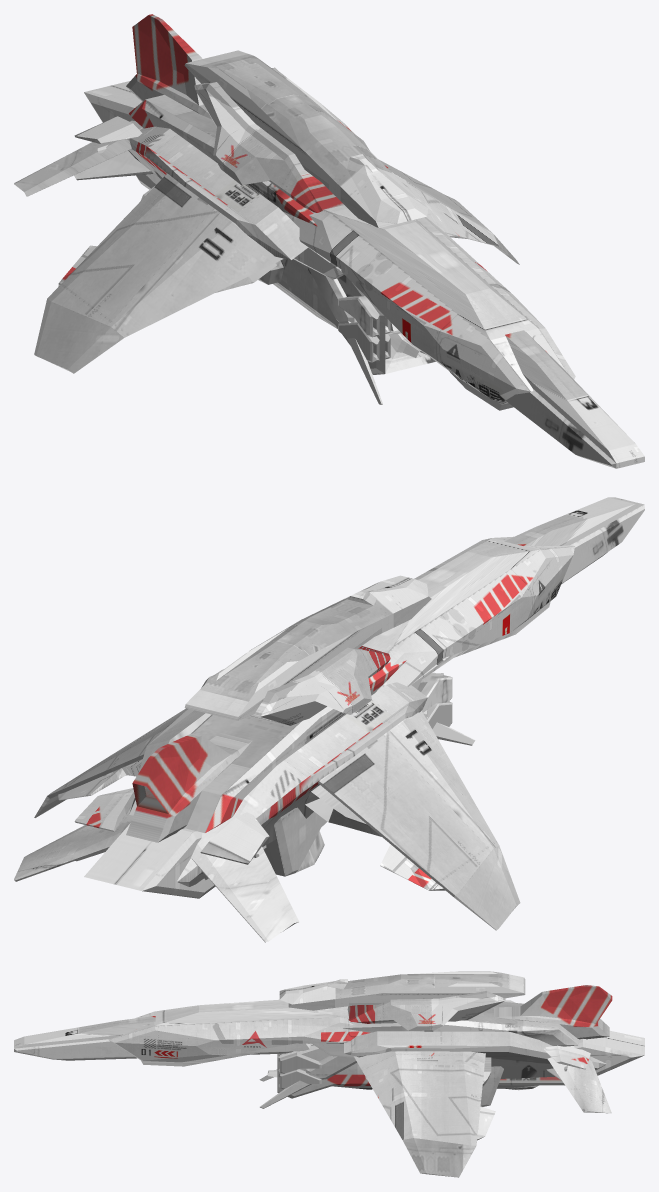
The model's file is omega_fighter01_2.FBX.
3 renders of one model, top to bottom at view 1: azimuth 30°, elevation 25°; view 2: azimuth 150°, elevation 25°; view 3: azimuth 270°, elevation 25°, orthographic. The views are drawn at different scales.
Visible parts, largest first — view 1: Object015; view 2: Object015; view 3: Object015.
Part boxes in pixels (bbox=[...]): Object015: bbox=[14, 14, 644, 468]; Object015: bbox=[14, 497, 644, 942]; Object015: bbox=[14, 971, 644, 1177].
Bounding box in the file's own units: 9.95 × 4.46 × 19.3.
